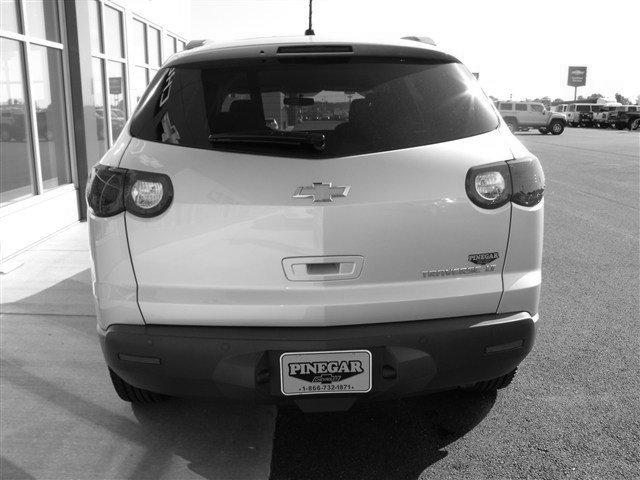car: (80, 1, 549, 431)
